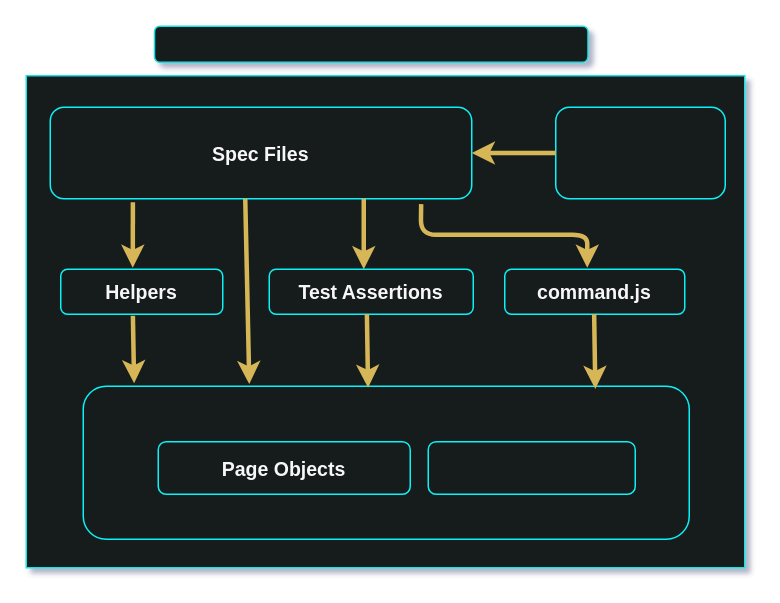
This 780x603 diagram has some shape labels left out. The shapes that lost their labels are listed below. From the top down, each one's box as (x1, y1, x2, y2) in pixels, then its label:
(153, 25, 588, 62): Test Framework Architecture
(554, 106, 725, 199): Test Data
(427, 440, 635, 494): Utilities
